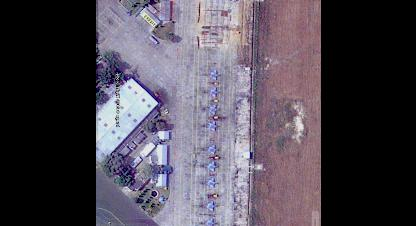Mirage2000: (203, 178, 217, 190), (204, 144, 218, 156), (205, 71, 219, 82), (204, 105, 219, 115), (202, 202, 216, 212), (203, 162, 217, 172), (204, 122, 218, 132), (205, 88, 219, 98), (200, 218, 217, 225)
